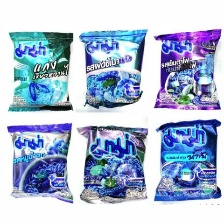snack: (73, 120, 152, 208), (74, 23, 150, 113), (148, 115, 223, 206), (3, 24, 76, 116), (149, 23, 223, 112), (3, 119, 75, 207)
